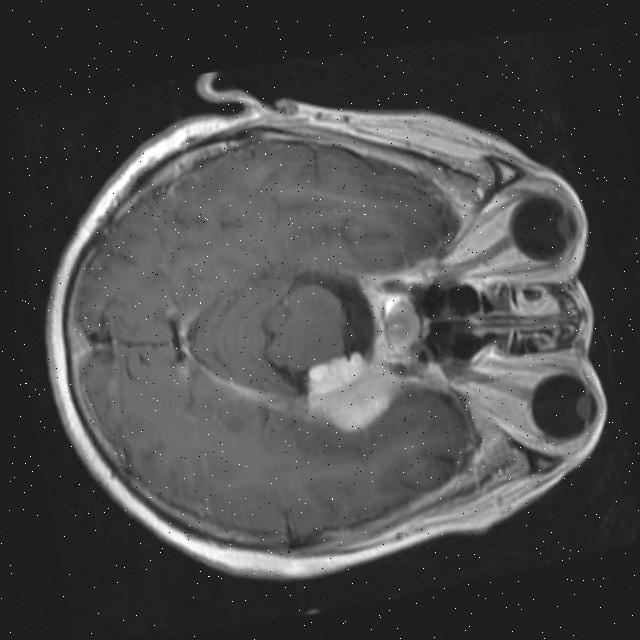Meningioma: (299, 343, 403, 443)
